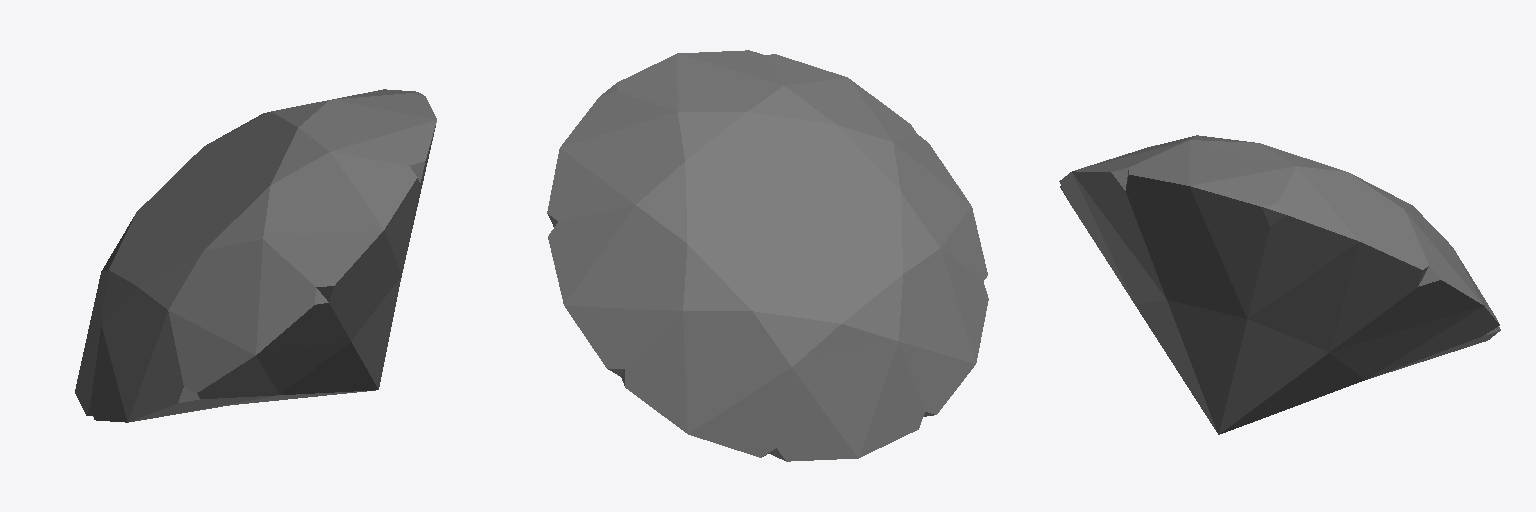
File: demo_diamond5.obj
3 renders of one model, left to right at view 1: azimuth 30°, elevation 25°; view 2: azimuth 150°, elevation 25°; view 3: azimuth 270°, elevation 25°, orthographic.
Visible parts, largest first — view 1: Mesh; view 2: Mesh; view 3: Mesh.
Part boxes in pixels (left/top/right/bottom): Mesh: left=75, top=89, right=436, bottom=422; Mesh: left=547, top=50, right=988, bottom=461; Mesh: left=1059, top=135, right=1500, bottom=434.
Size of the model in its own units: 2.56 by 1.98 by 2.91.